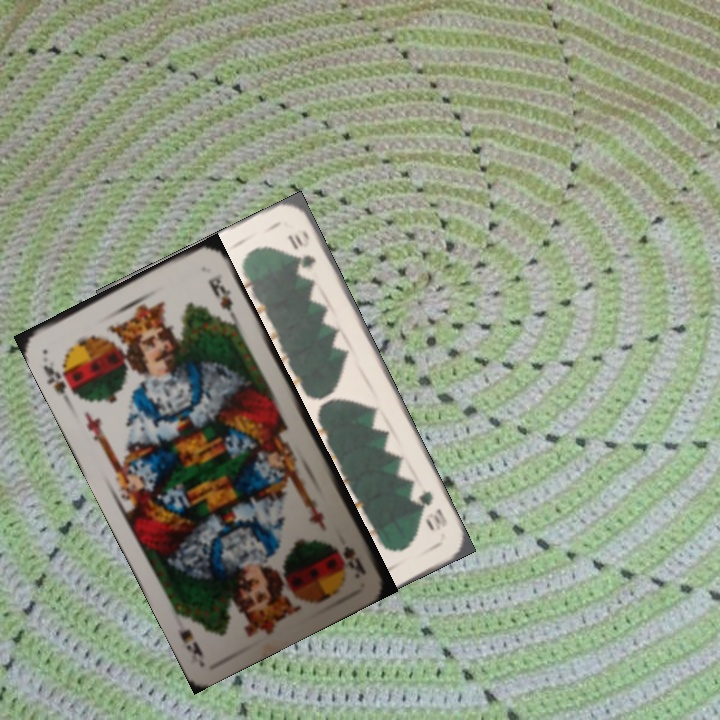G10: (414, 484, 450, 534)
SK: (38, 360, 81, 403), (339, 541, 369, 582)
